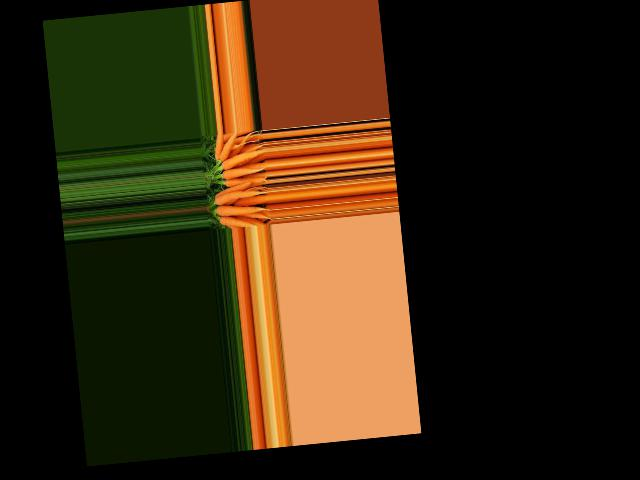carrot: (216, 199, 268, 219)
